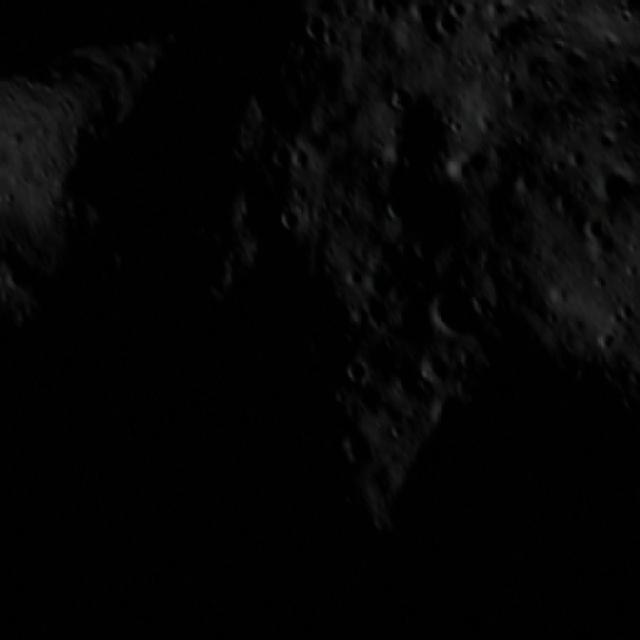crater: (420, 275, 494, 351), (259, 135, 304, 179), (331, 353, 377, 396), (376, 80, 416, 122), (278, 204, 308, 233)
